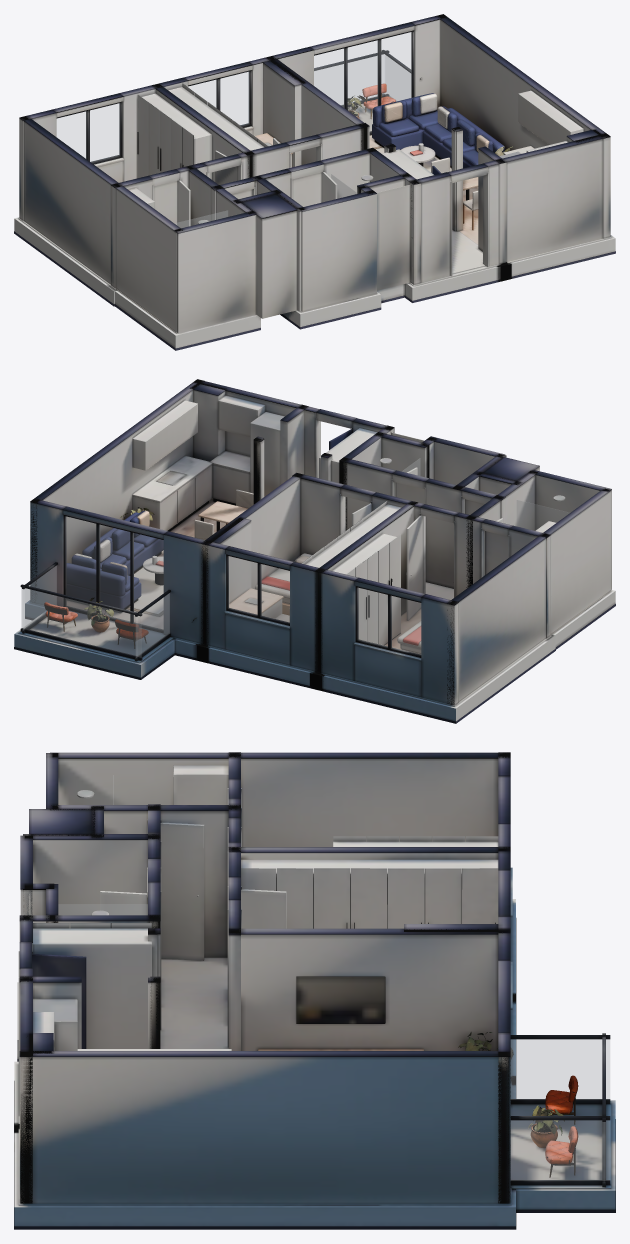
3 renders of one model, top to bottom at view 1: azimuth 30°, elevation 25°; view 2: azimuth 150°, elevation 25°; view 3: azimuth 270°, elevation 25°, orthographic. The views are drawn at different scales.
Parts seen in each view (by area): view 1: plan, glass2_m, glass0_m, railg0_m, glass1_m, railg4_m; view 2: plan, glass2_m, railg0_m, glass0_m, glass1_m, railg3_m, railg4_m, sg.002_m; view 3: plan, railg4_m, railg3_m, sg_m.
Boxes of the visible parts, <box> form: plan: <box>14,14,615,350</box>; glass2_m: <box>314,32,411,131</box>; glass0_m: <box>57,103,119,162</box>; railg0_m: <box>314,54,384,105</box>; glass1_m: <box>188,72,249,125</box>; railg4_m: <box>385,55,410,100</box>; plan: <box>14,379,615,723</box>; glass2_m: <box>66,516,163,629</box>; railg0_m: <box>21,588,141,657</box>; glass0_m: <box>358,588,420,654</box>; glass1_m: <box>228,556,289,622</box>; railg3_m: <box>136,593,169,657</box>; railg4_m: <box>23,566,56,629</box>; sg.002_m: <box>517,500,569,530</box>; plan: <box>14,752,615,1229</box>; railg4_m: <box>511,1120,609,1180</box>; railg3_m: <box>511,1039,609,1099</box>; sg_m: <box>58,904,147,914</box>.
Bounding box in the file's own units: 10.15 × 2.62 × 8.37.
2 materials, 1 textured.
